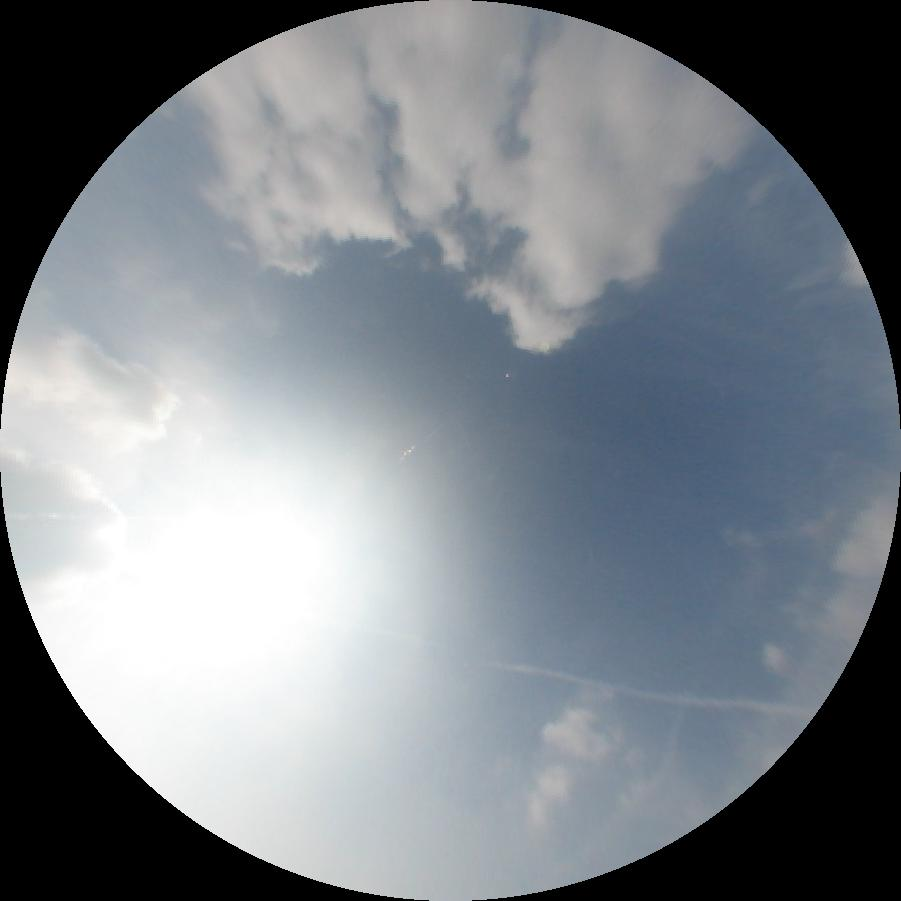contrail old: (489, 660, 811, 715)
sun: (79, 516, 330, 709)
